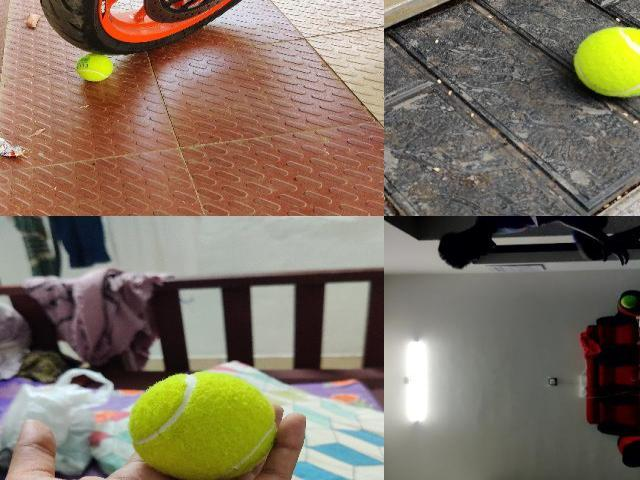tennis-ball: (126, 371, 278, 479), (572, 25, 639, 98), (76, 55, 112, 81), (620, 295, 638, 308)
